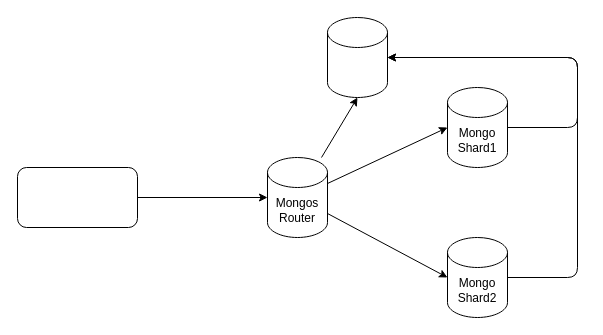
Image size: 603x335. Some labels were removed from this diagram. The shapes that lost their labels are listed below. From the top down, each one's centre as x and y in pixels, then its label:
the point at 357,57: Mongo Config Server
the point at 77,197: pymongo-api
